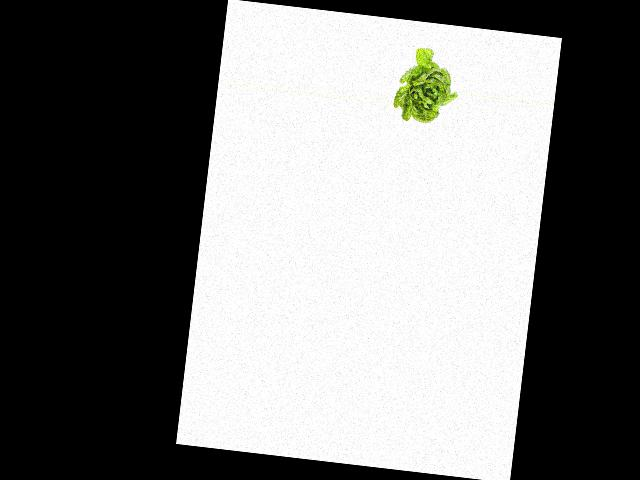lettuce: (393, 42, 463, 127)
